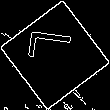L_E: (27, 36, 83, 74)
